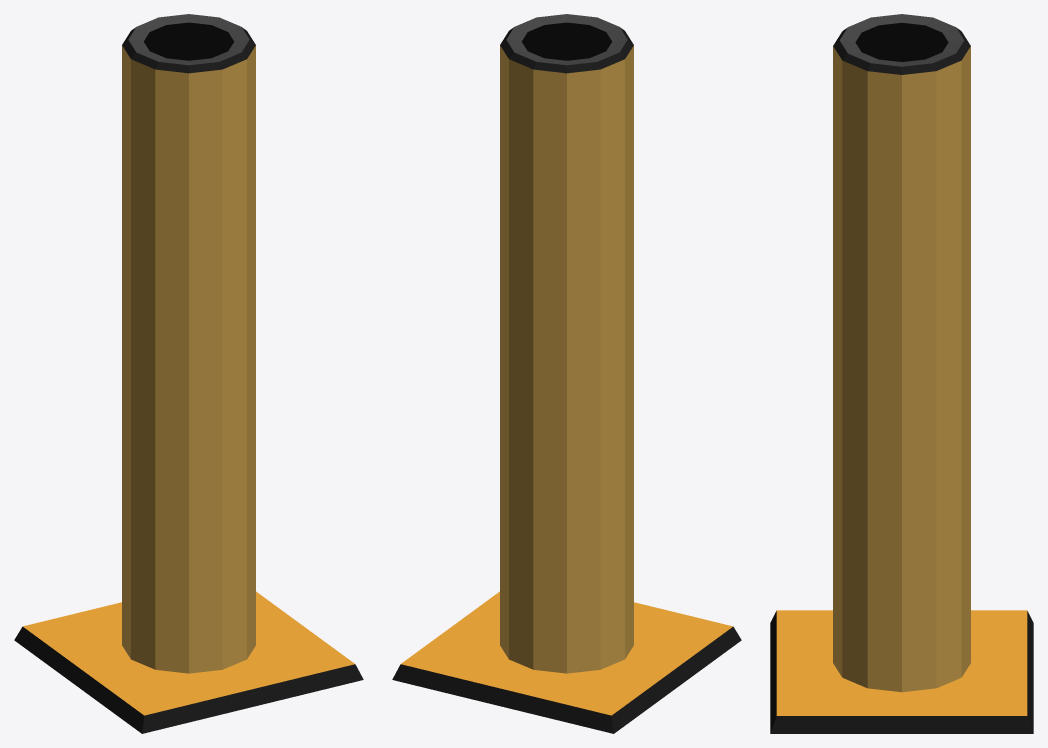
Rendered from GLD_S_SingleTube.fbx.
3 views of the same model, side by side, from view 1: azimuth 30°, elevation 25°; view 2: azimuth 150°, elevation 25°; view 3: azimuth 270°, elevation 25° (orthographic). The views are drawn at different scales.
Visible parts, largest first — view 1: PreloadedTube_DummyPreloadedTube; view 2: PreloadedTube_DummyPreloadedTube; view 3: PreloadedTube_DummyPreloadedTube.
Boxes of the visible parts, x1,y1,x2,y2 form: PreloadedTube_DummyPreloadedTube: (14, 14, 363, 733); PreloadedTube_DummyPreloadedTube: (392, 14, 741, 733); PreloadedTube_DummyPreloadedTube: (770, 14, 1033, 733).
Bounding box in the file's own units: 19.1 × 51.07 × 19.1.
